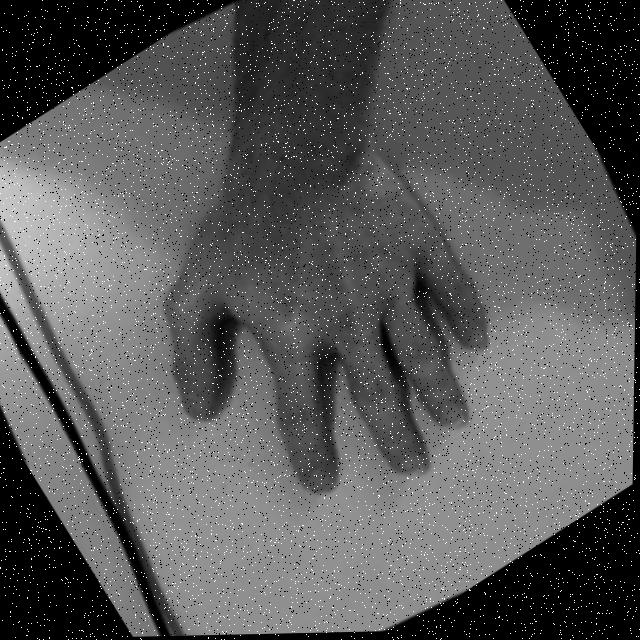hand: (104, 116, 554, 575)
